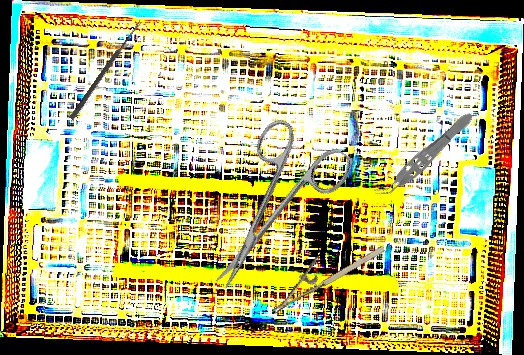Iris Scissors: (178, 109, 358, 310)
Needle Holder: (260, 227, 387, 314)
Surgical Spoon: (69, 19, 143, 121)
Tissue Forceps: (372, 107, 478, 205)
